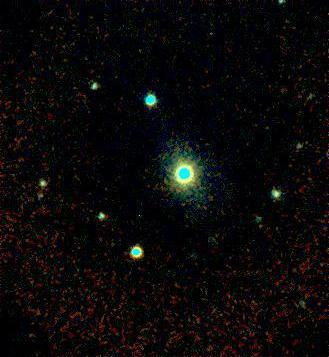star: (245, 212, 275, 242)
